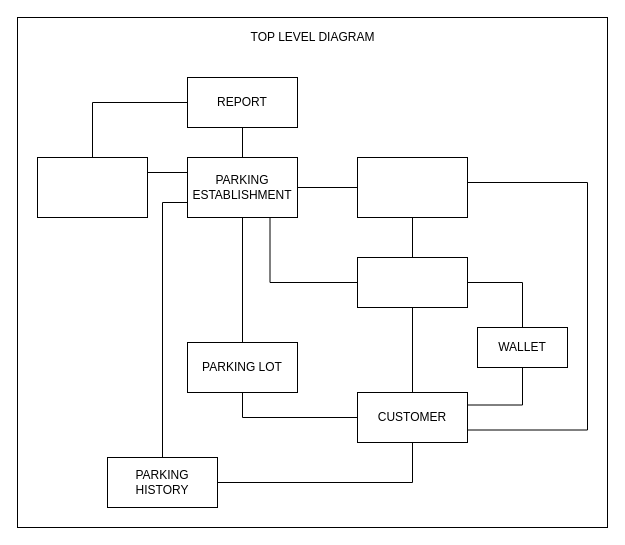
The diagram is 625 pixels wide and 545 high, and some of its shapes have lost their labels. The shapes that lost their labels are listed below. From the top down, each one's centre as x and y in pixels, then its label:
At (92,187): "ESTABLISHMENT OWNER".
At (412,187): "PARKING RESERVATION".
At (412,282): "PAYMENT GATEWAY".
